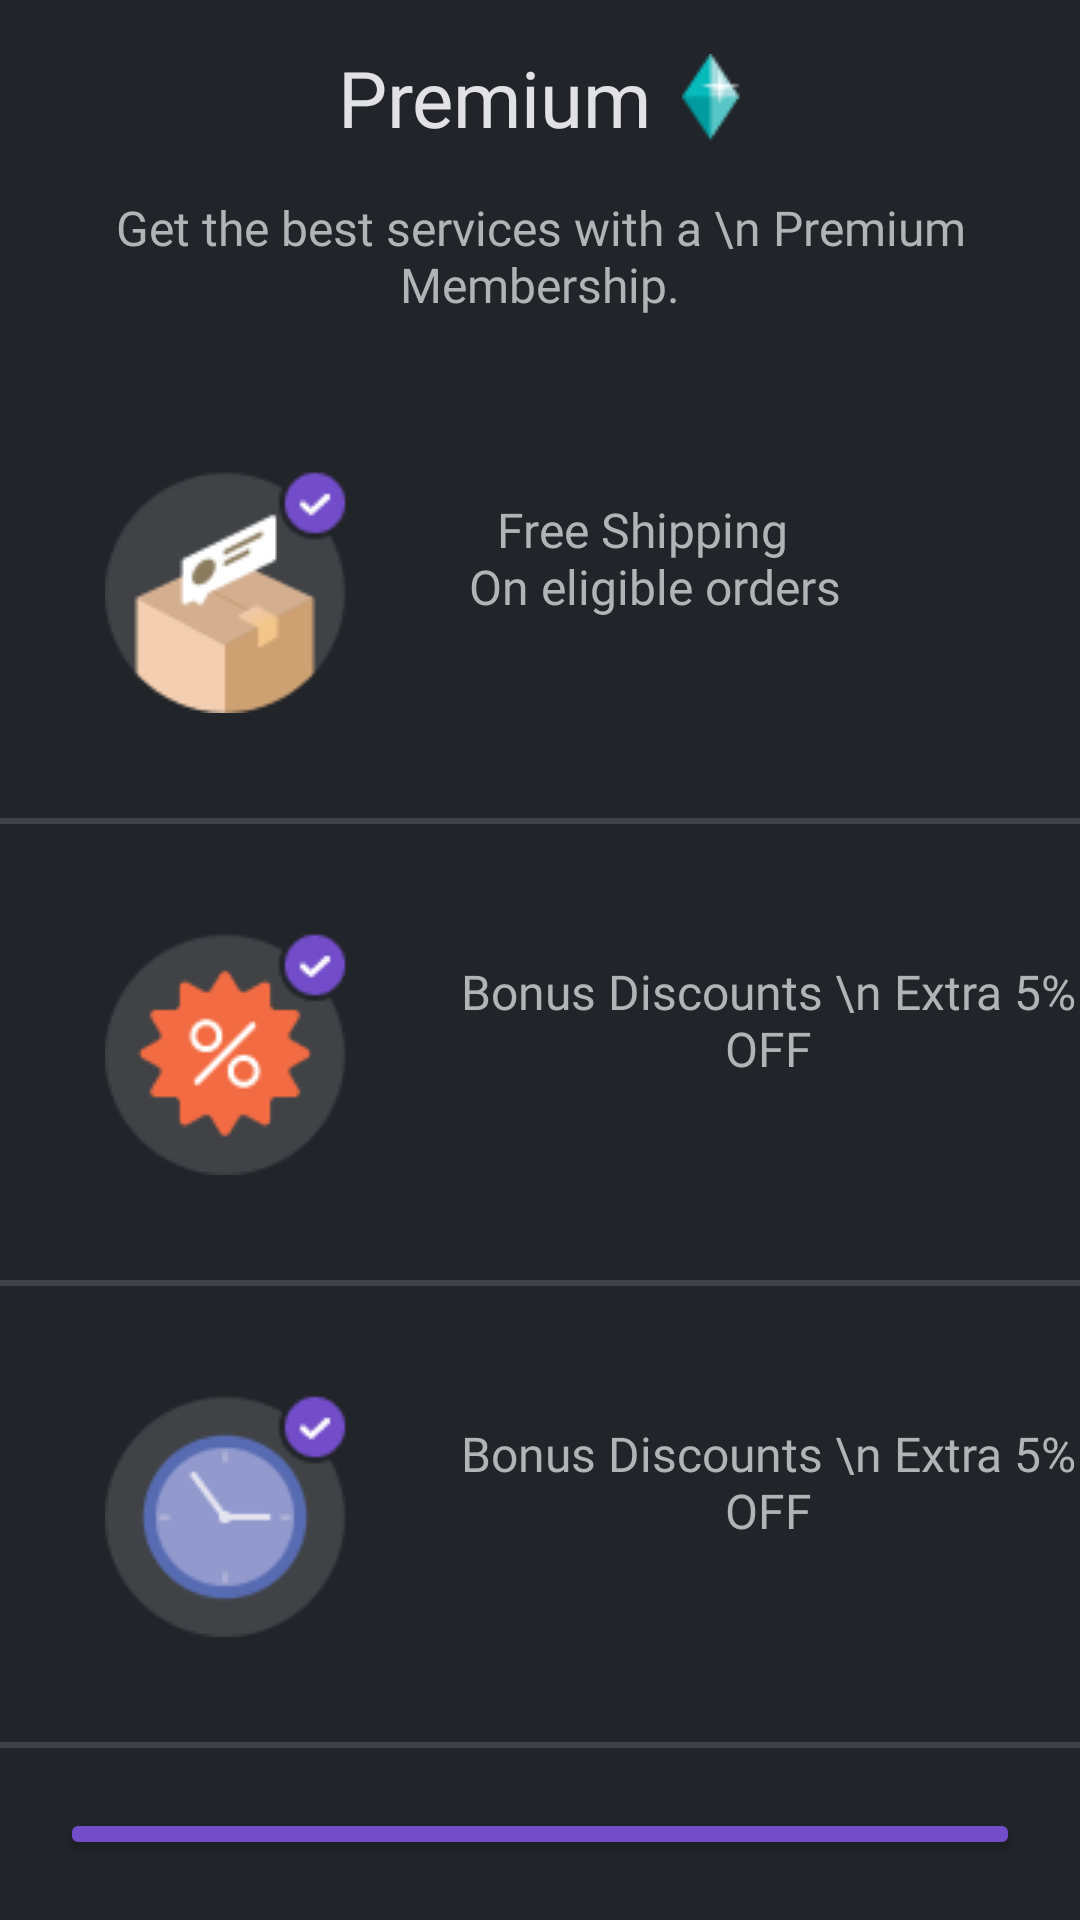

Locate icon controls on the screen. Image size 1080w x 1920h, boxes as bbox=[x1, y1, x2, y2].
box: bbox=[105, 472, 346, 713]
